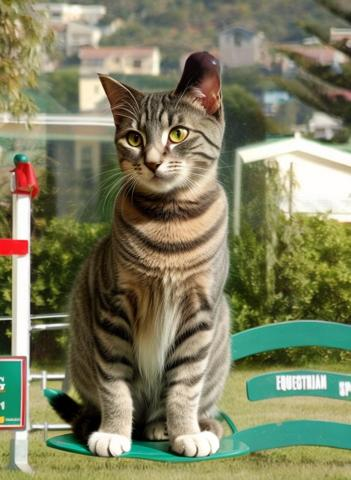cat: (46, 73, 265, 456)
person: (97, 51, 223, 266)
